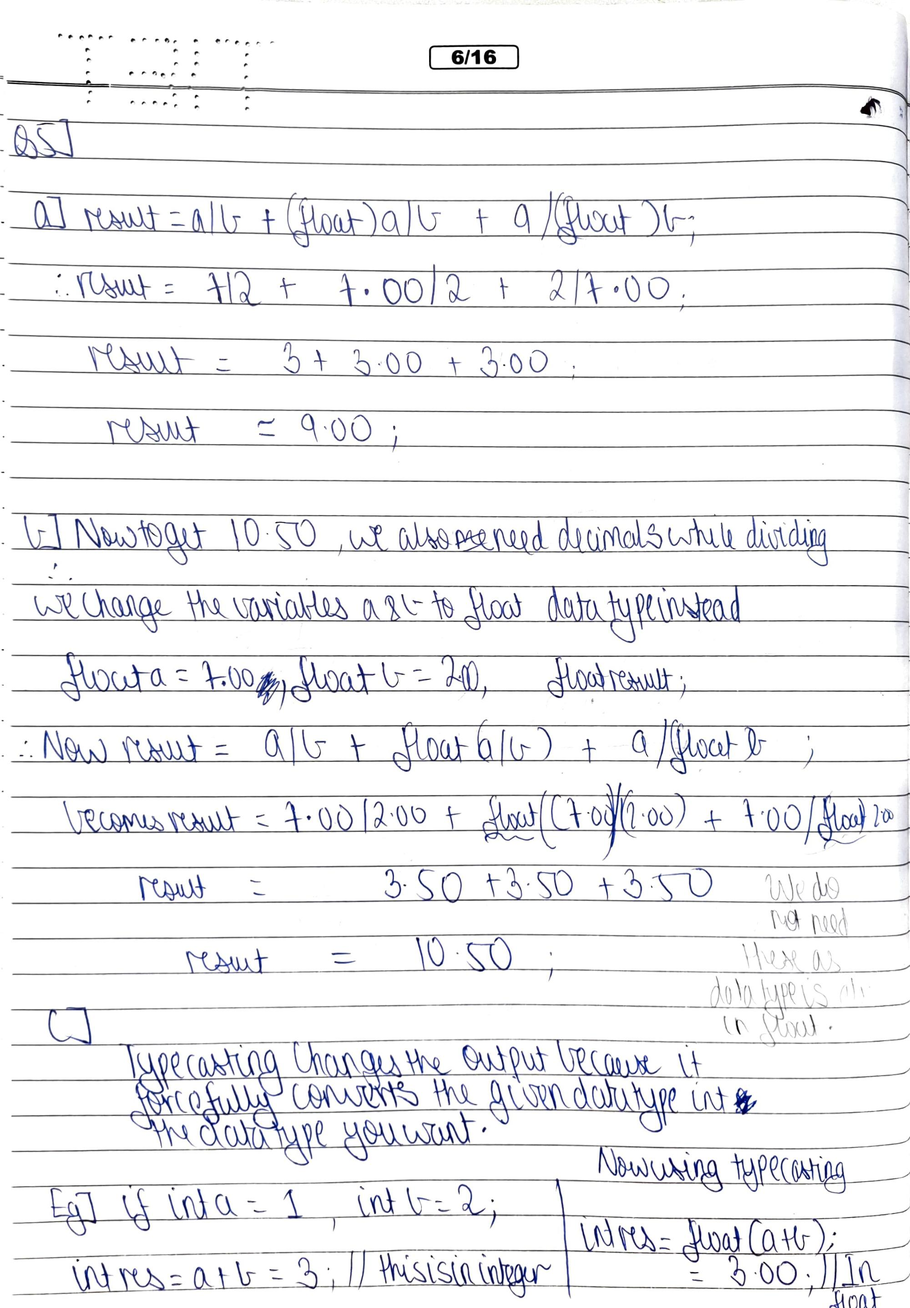cuttings: (454, 528, 495, 553), (255, 671, 281, 706), (733, 1087, 758, 1116)
